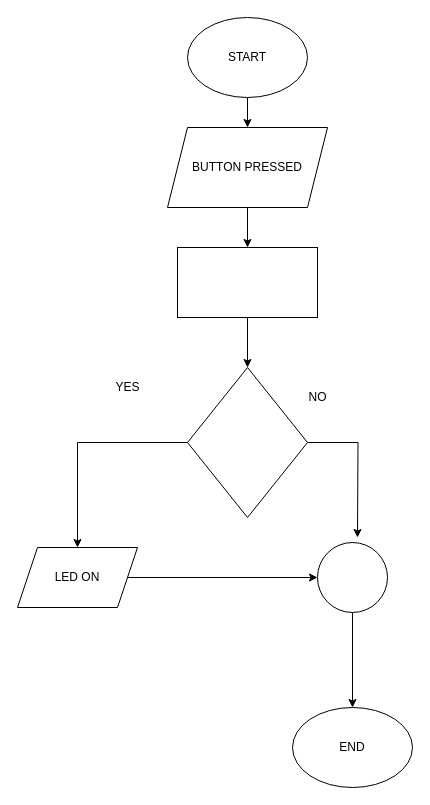
Some shapes in this 430 by 805 pixel diagram are drawn without their labels. The shapes that lost their labels are listed below. From the top down, each one's centre as x and y in pixels, then its label:
point 247,282: INFORMATION PASSES THROUGH MCU
point 247,442: WHETHER THE BUTTON CLICKED
